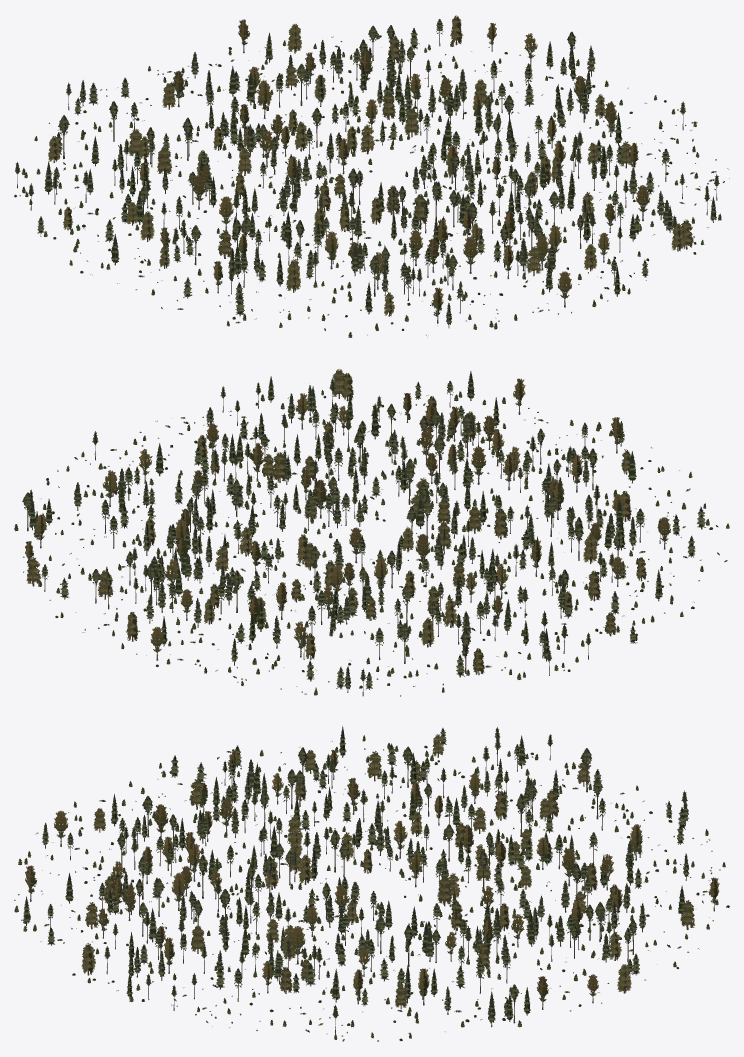
The model's file is forest-trees-kit.glb.
3 renders of one model, top to bottom at view 1: azimuth 30°, elevation 25°; view 2: azimuth 150°, elevation 25°; view 3: azimuth 270°, elevation 25°, orthographic.
Bounding box in the file's own units: 556 × 38.02 × 557.
2 materials, 2 textured.
